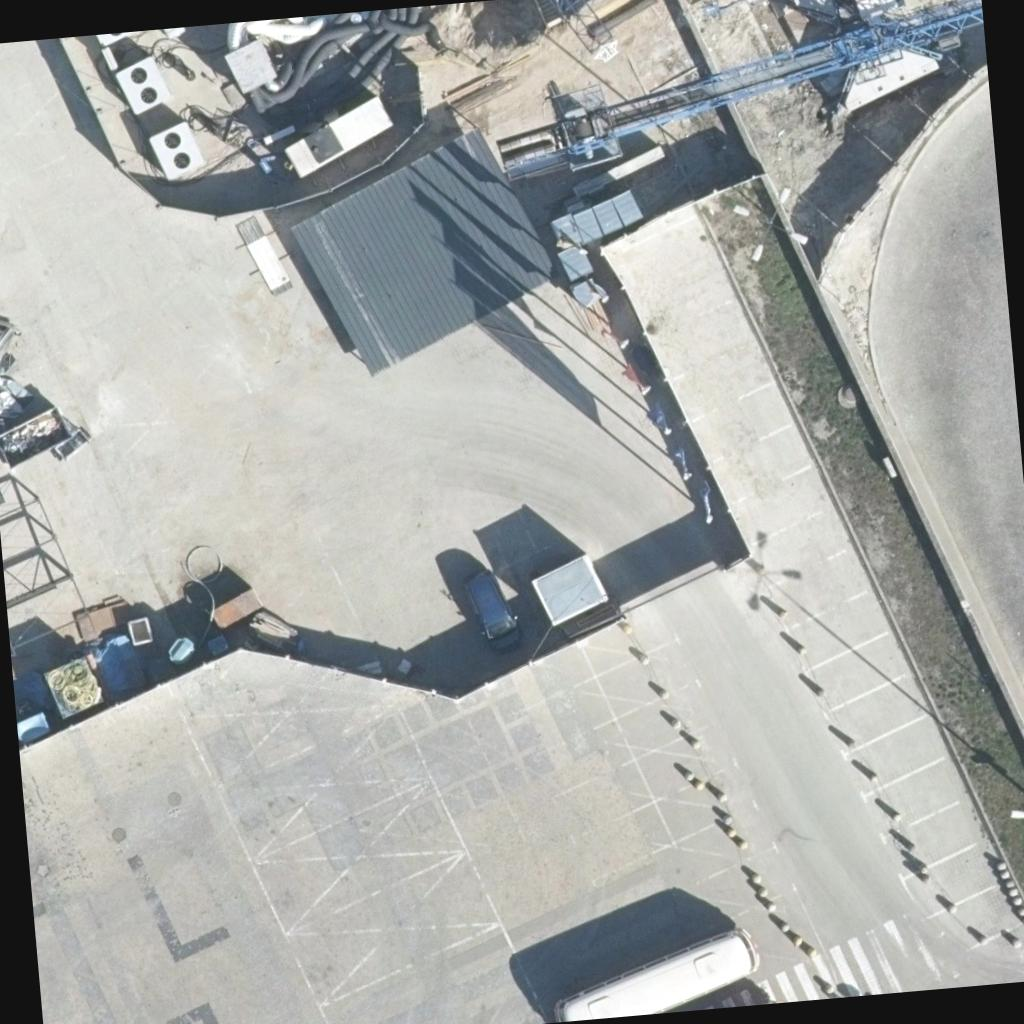samochod_osobowy: (464, 566, 522, 656)
zuraw_wiezowy: (487, 0, 992, 185)
